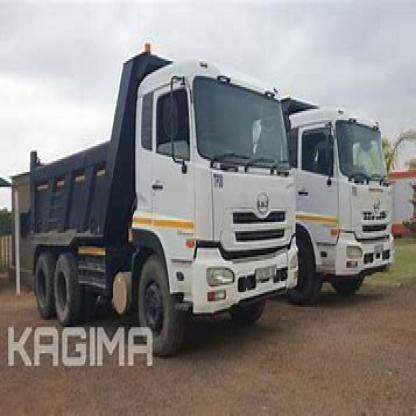dump_truck: (21, 37, 299, 336), (297, 89, 400, 305)
